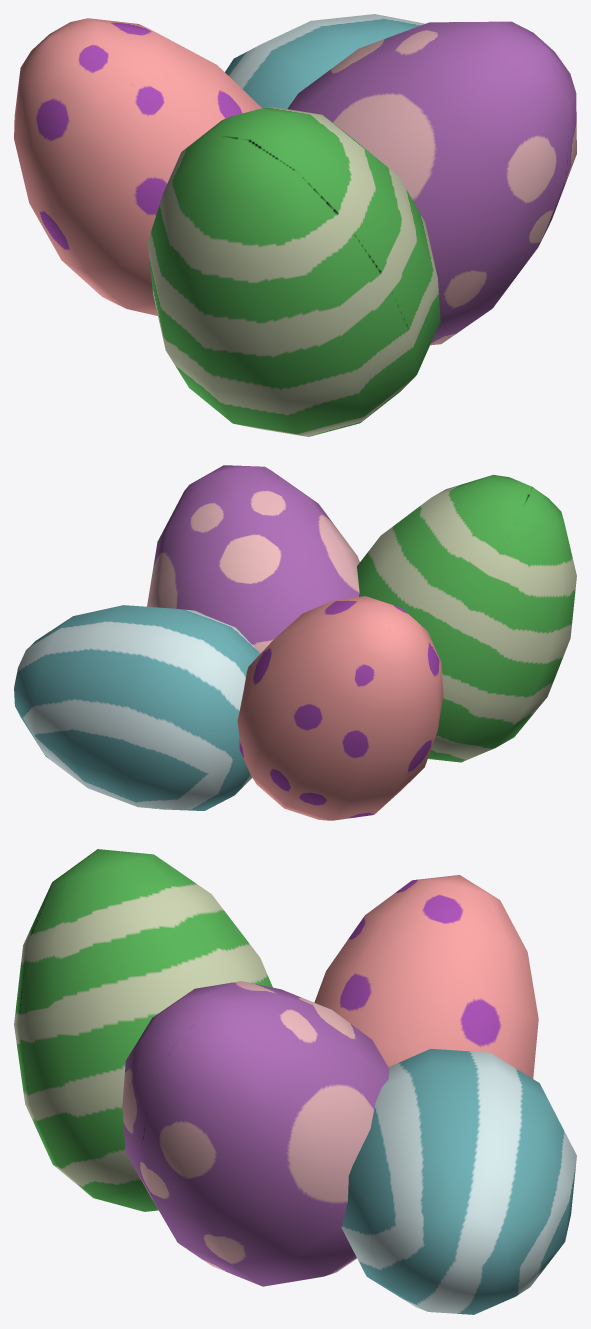
File: EasterEgg_Cluster.fbx
3 views of the same model, one above another, from view 1: azimuth 30°, elevation 25°; view 2: azimuth 150°, elevation 25°; view 3: azimuth 270°, elevation 25° (orthographic). The views are drawn at different scales.
Parts seen in each view (by area): view 1: Sphere; view 2: Sphere; view 3: Sphere.
Boxes of the visible parts, <box> form: Sphere: <box>14,14,576,436</box>; Sphere: <box>14,465,576,820</box>; Sphere: <box>14,849,576,1314</box>.
Bounding box in the file's own units: 0.3868 × 0.2406 × 0.3838.
Materials: 1 (1 with a texture image).
